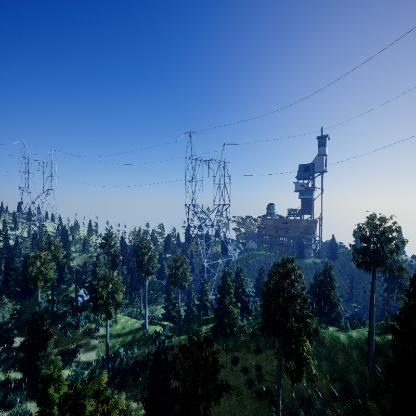tower: (175, 129, 242, 301), (12, 137, 62, 237)
